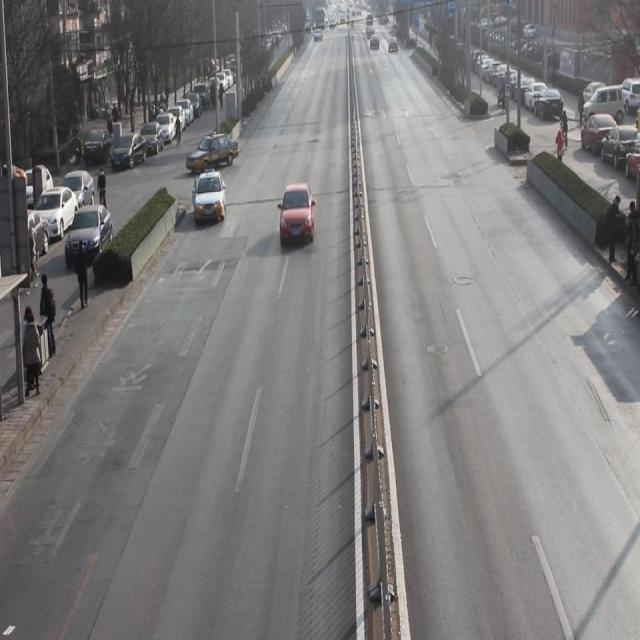car: (280, 186, 318, 247), (188, 133, 240, 176), (193, 169, 228, 224)
